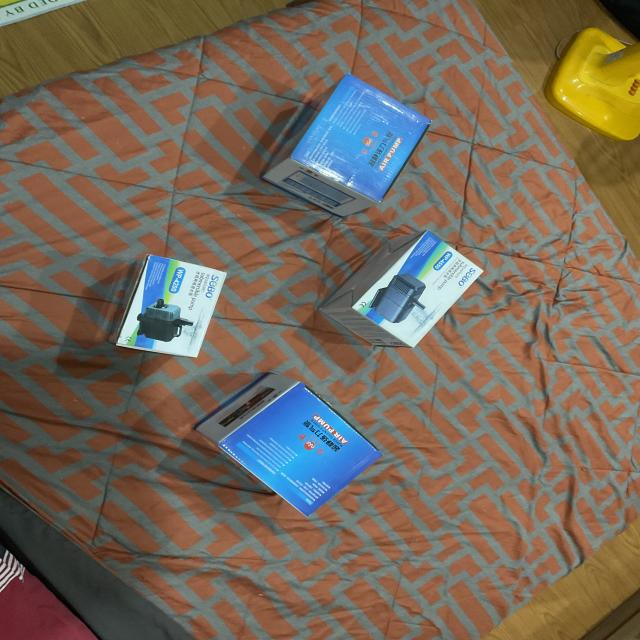SOBO_WP_4200: (311, 218, 488, 360), (108, 237, 251, 368)
YAMANO_LPP_20: (180, 361, 396, 522), (255, 70, 442, 218)
